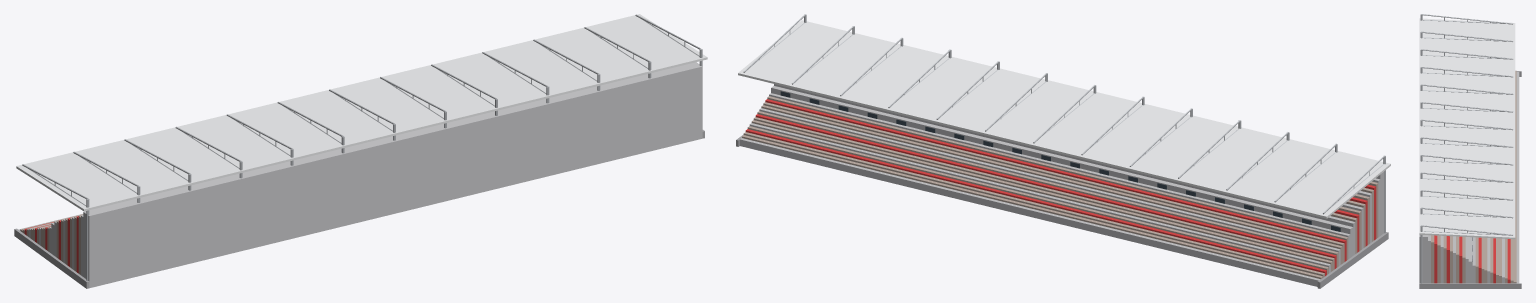
File: barcelona_grandstand.glb
3 renders of one model, left to right at view 1: azimuth 30°, elevation 25°; view 2: azimuth 150°, elevation 25°; view 3: azimuth 270°, elevation 25°, orthographic. The views are drawn at different scales.
Parts seen in each view (by area): view 1: stand, roof; view 2: stand, roof; view 3: roof, stand.
Boxes of the visible parts, box(x1,y1,x2,y2) form: stand: box(14, 62, 704, 288); roof: box(16, 14, 707, 280); stand: box(736, 84, 1388, 288); roof: box(738, 14, 1390, 233); roof: box(1419, 14, 1515, 283); stand: box(1419, 70, 1521, 288).
Size of the model in its own units: 244 by 33.28 by 49.
